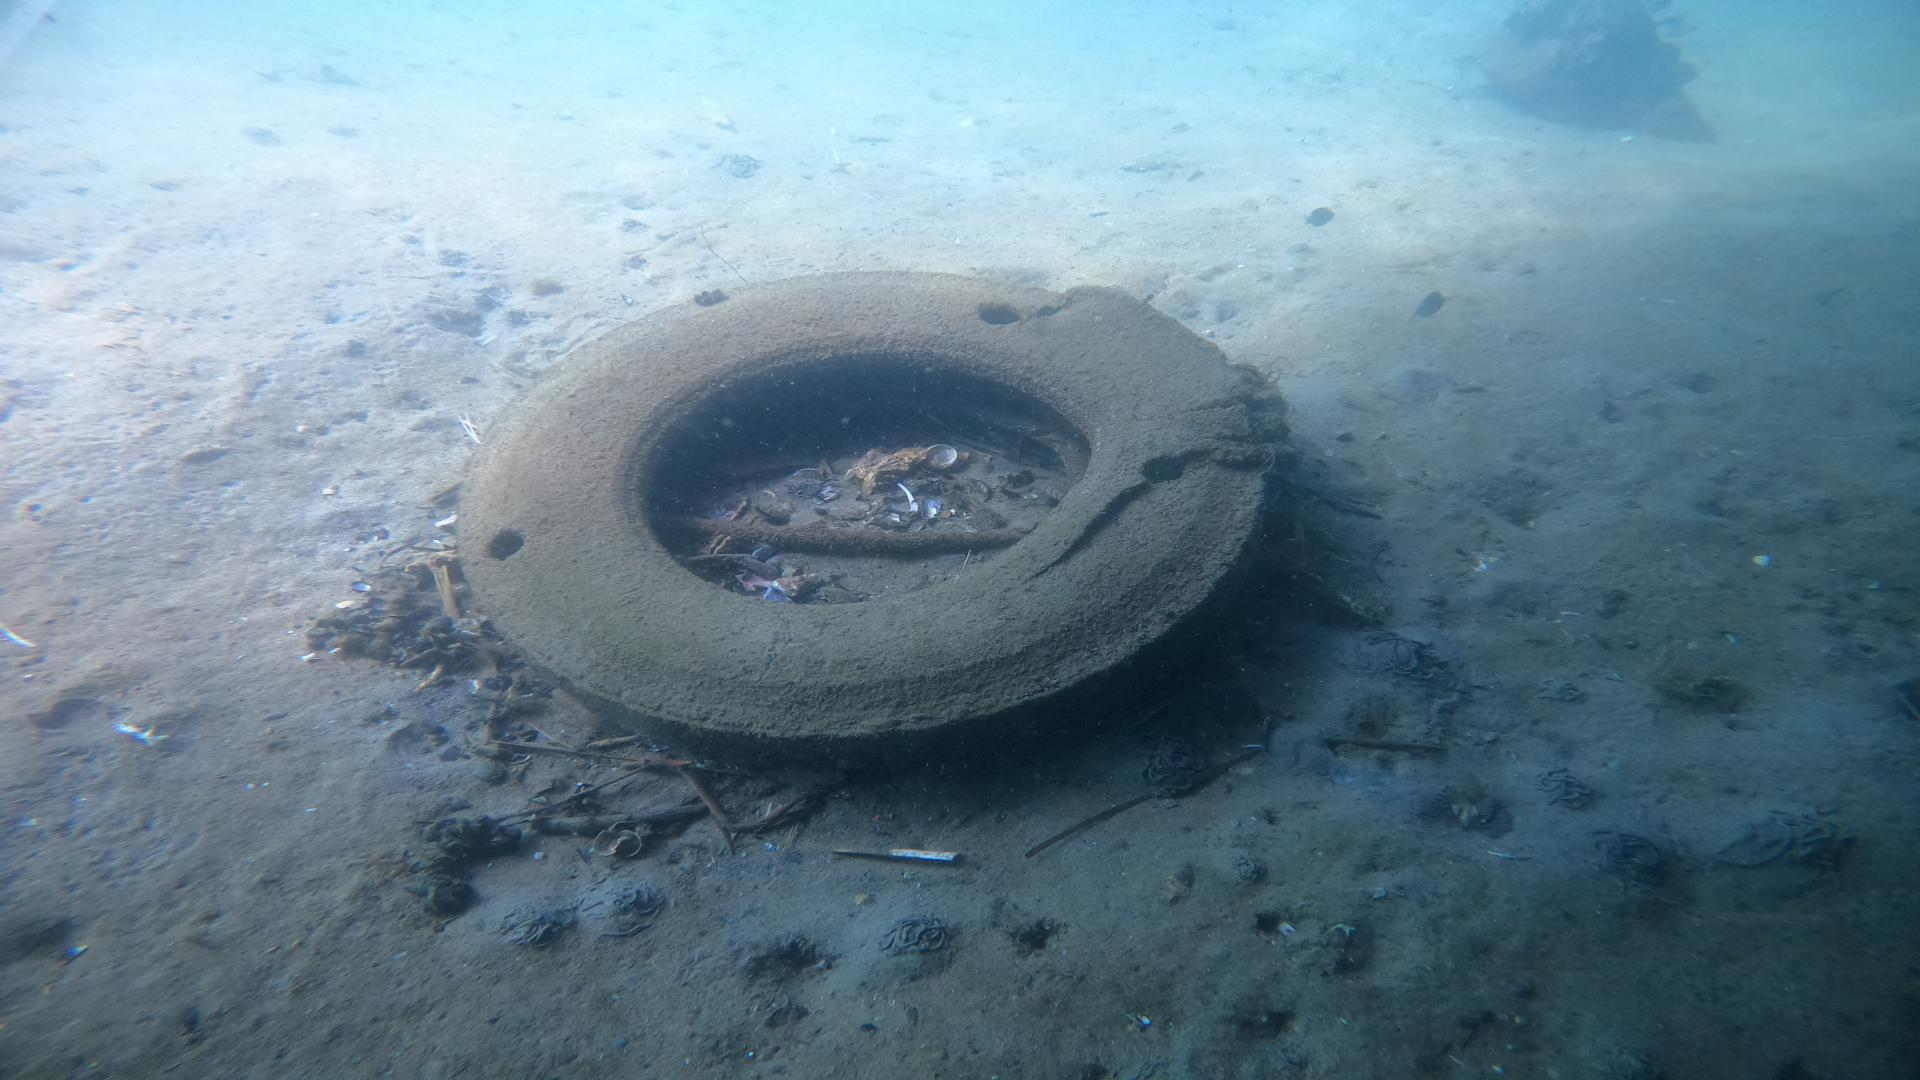tire: (456, 266, 1269, 771)
